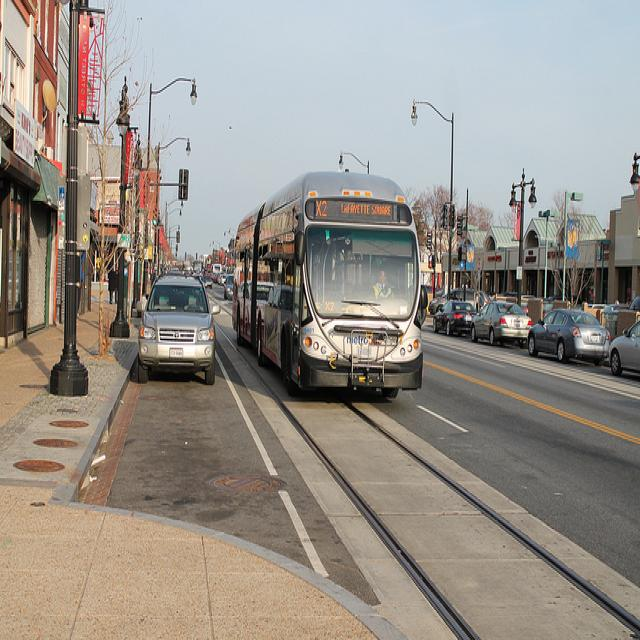Vehicle: (230, 173, 428, 404), (138, 271, 220, 384), (528, 308, 610, 364), (470, 302, 534, 346), (609, 318, 640, 376), (432, 302, 480, 337), (428, 290, 465, 314), (223, 274, 234, 300), (629, 294, 640, 310), (218, 274, 227, 286), (205, 278, 213, 289)
